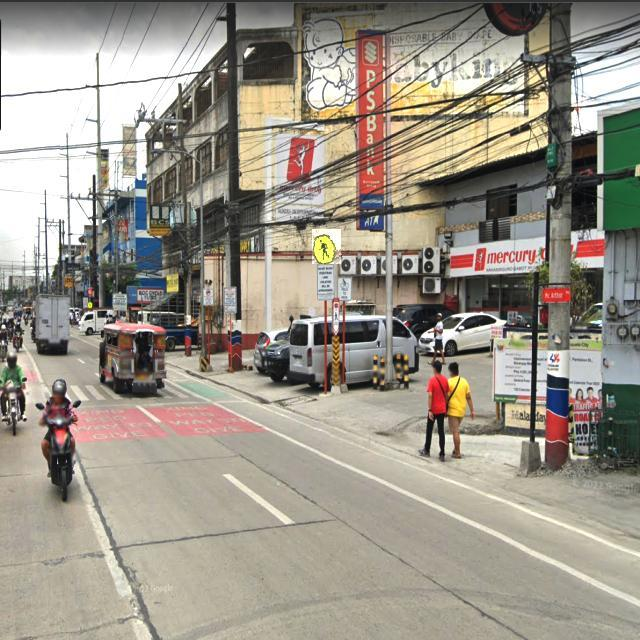pedestrian crossing: (312, 229, 341, 264)
